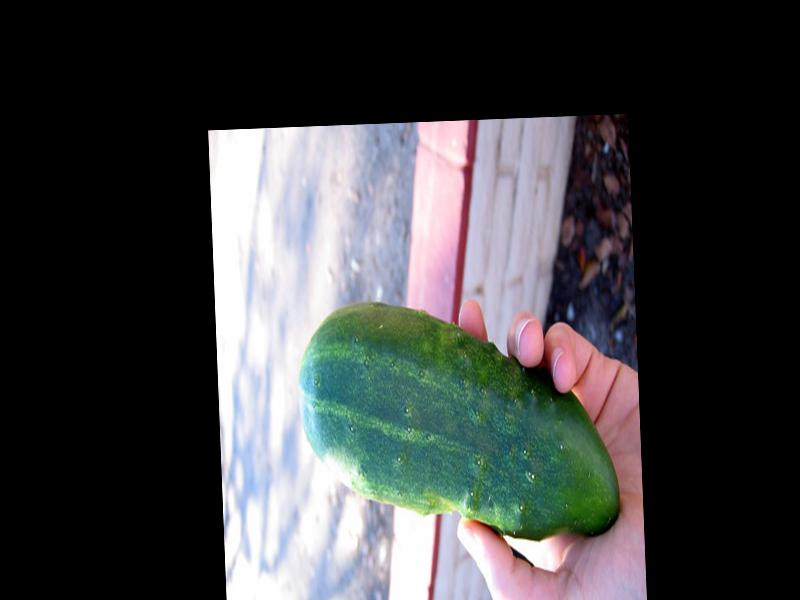Cucumber: (297, 290, 620, 547)
